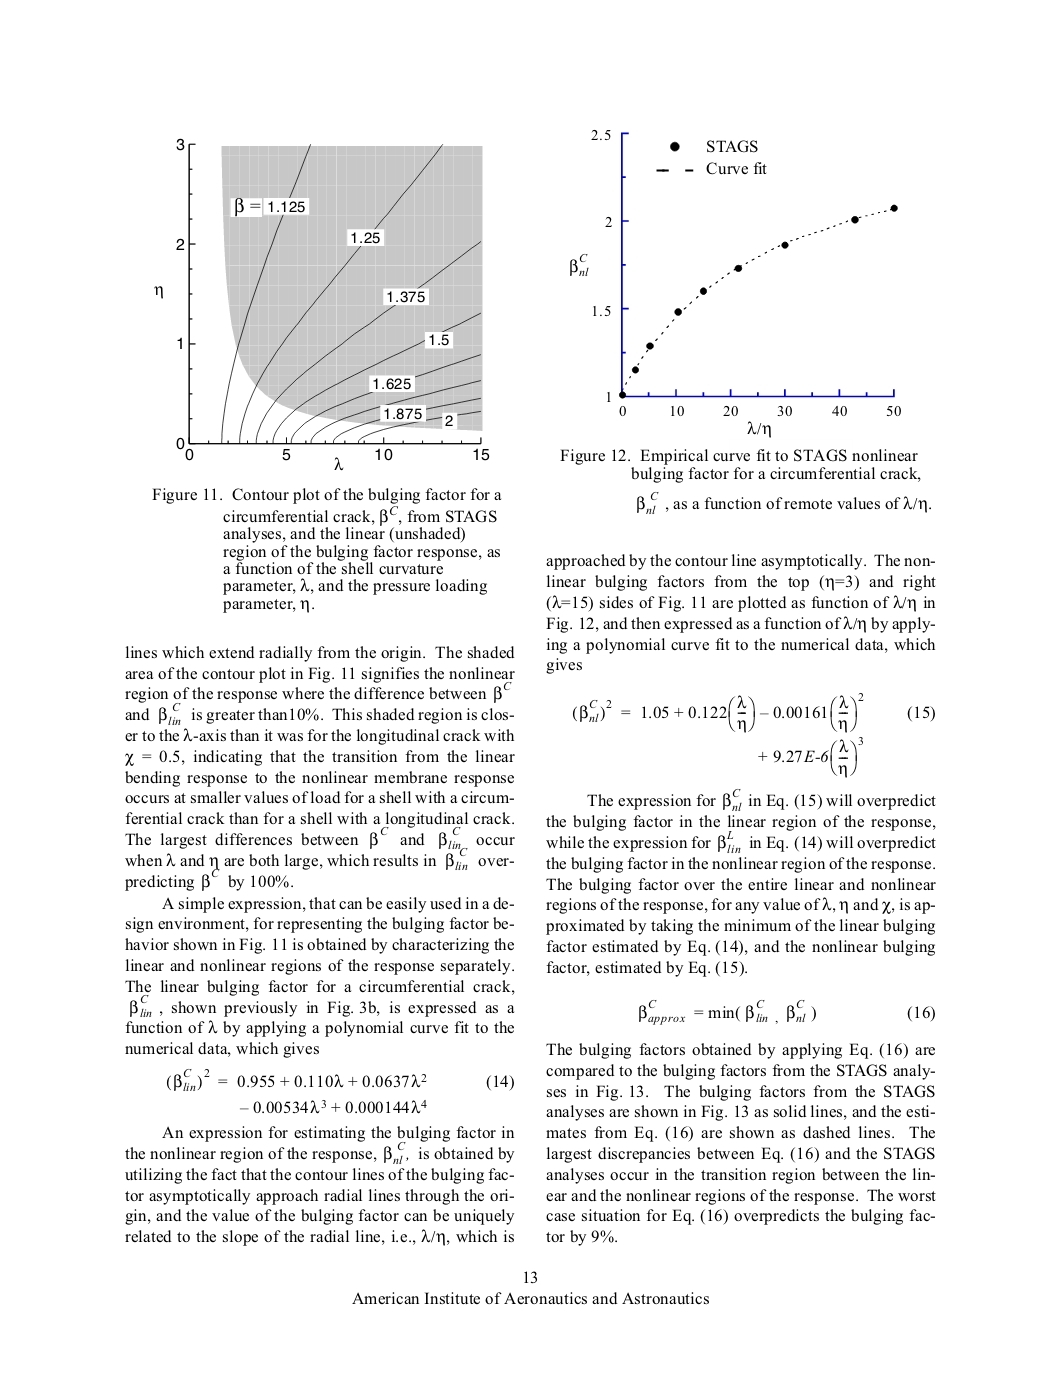figure: (154, 137, 489, 471), (570, 129, 901, 437)
formula: (573, 692, 934, 733), (167, 1067, 513, 1091), (639, 999, 934, 1025), (758, 736, 862, 778), (240, 1098, 426, 1114)
